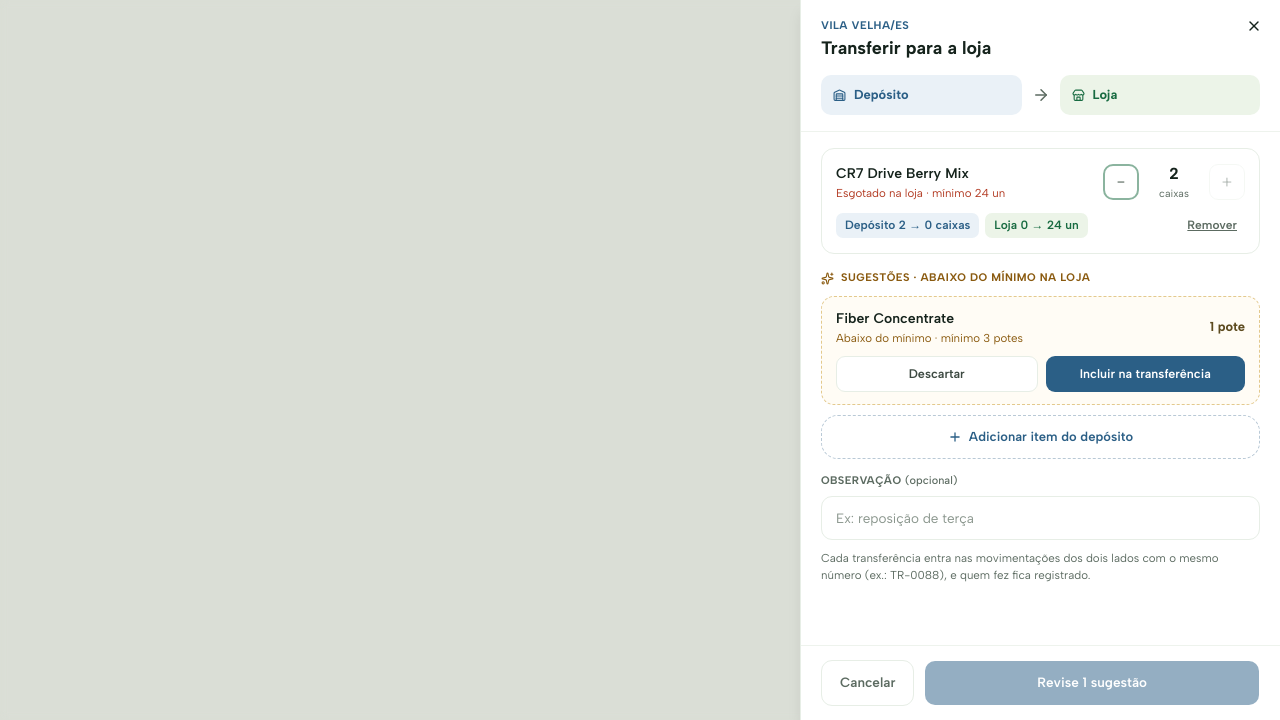
Test: TransferirDialog › steps the quantity between 1 and what the depósito holds
The width and height of the screenshot is (1280, 720).
Expected: the button named "Mais caixas" is disabled, x1=1209 y1=164 x2=1245 y2=200
Click the button named "Menos caixas": {"x": 1121, "y": 182} x1=1103 y1=164 x2=1139 y2=200
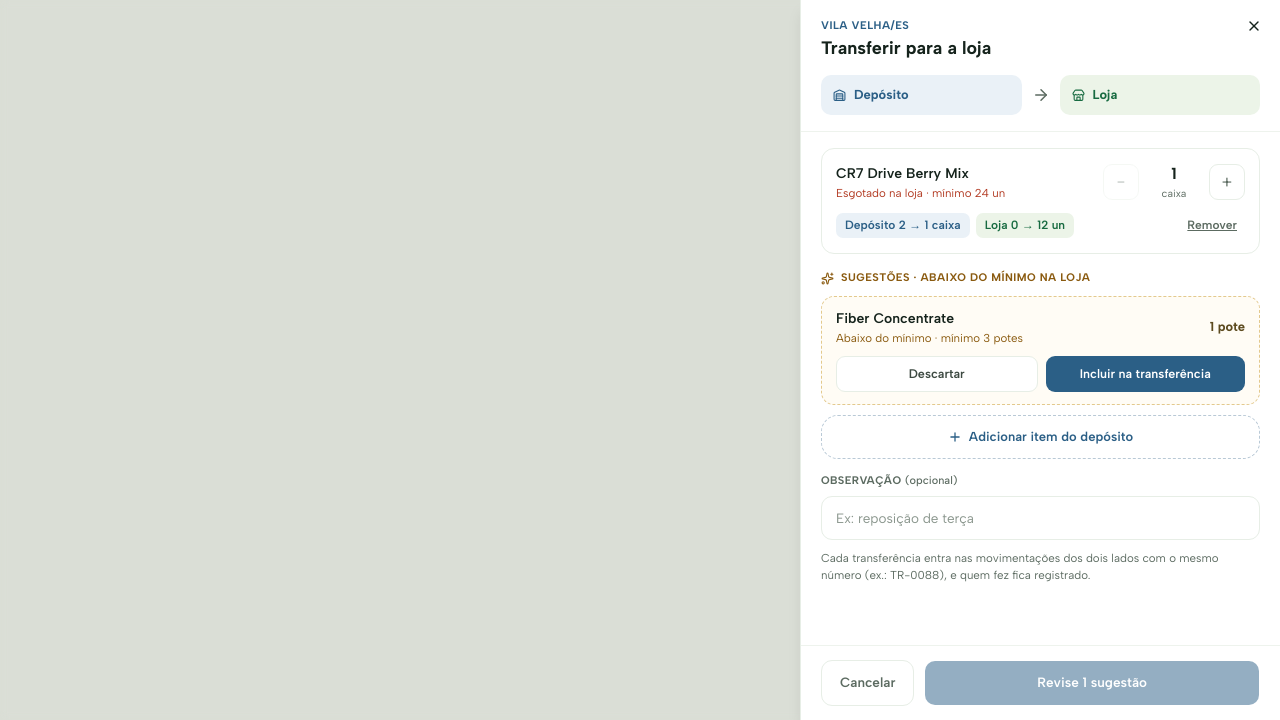
Now the text "Depósito 2 → 1 caixa" is shown, box x1=836 y1=213 x2=970 y2=238
Now the text "Loja 0 → 12 un" is shown, box x1=976 y1=213 x2=1074 y2=238
Now the button named "Menos caixa" is disabled, box x1=1103 y1=164 x2=1139 y2=200
